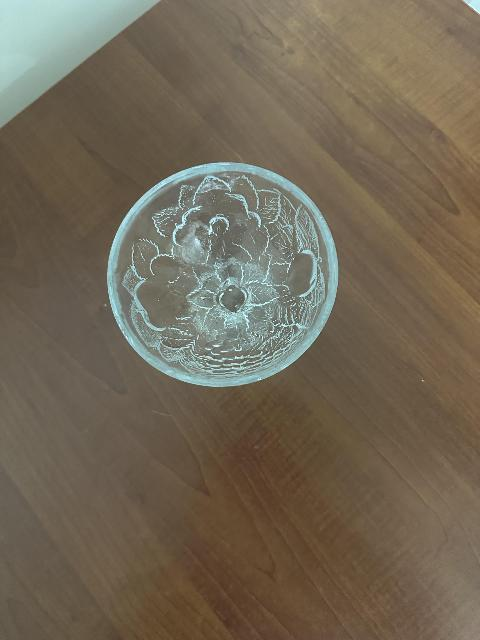Cam: (106, 155, 341, 393)
